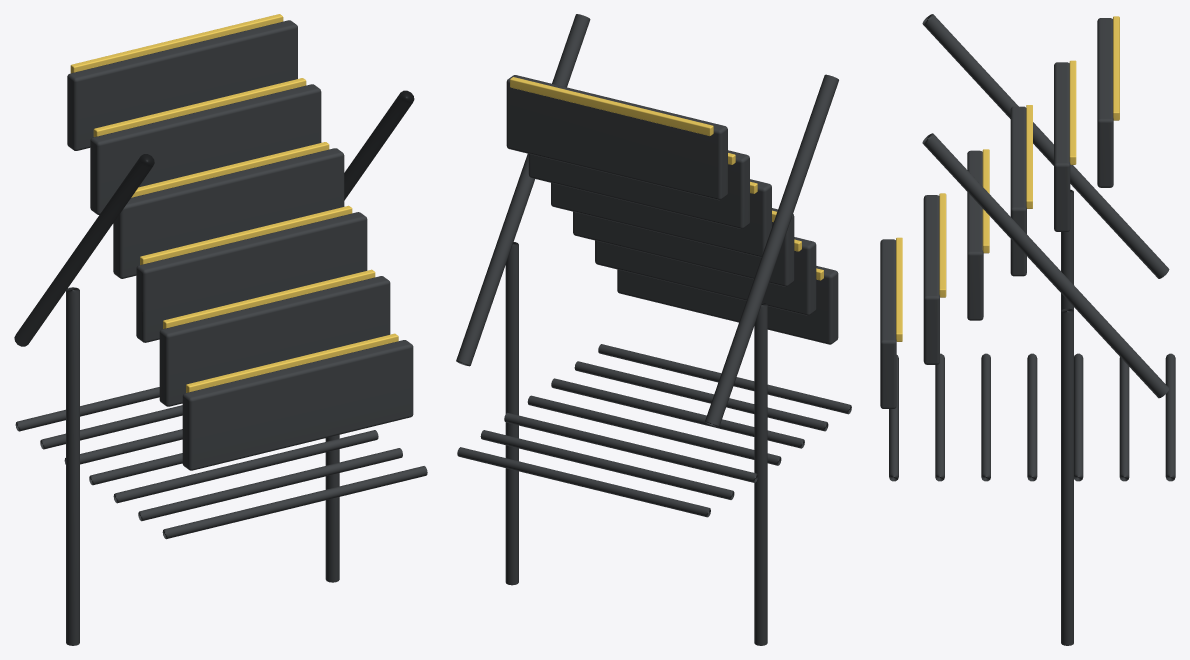
File: prop_ladder_stair_final.glb
3 renders of one model, left to right at view 1: azimuth 30°, elevation 25°; view 2: azimuth 150°, elevation 25°; view 3: azimuth 270°, elevation 25°, orthographic. The views are drawn at different scales.
Parts seen in each view (by area): view 1: industrial_stair_tread_0, industrial_stair_tread_1, industrial_stair_tread_2, industrial_stair_tread_5, industrial_stair_tread_3, industrial_stair_tread_4, ladder_vertical_rail_-0.52, stair_handrail_-0.52, ladder_rung_0, ladder_rung_1, ladder_rung_2, anti_slip_yellow_edge_4 (+11 smaller); view 2: industrial_stair_tread_5, industrial_stair_tread_4, industrial_stair_tread_3, industrial_stair_tread_1, stair_handrail_-0.52, industrial_stair_tread_0, industrial_stair_tread_2, ladder_vertical_rail_-0.52, stair_handrail_0.52, ladder_vertical_rail_0.52, ladder_rung_4, ladder_rung_5 (+6 smaller); view 3: stair_handrail_0.52, stair_handrail_-0.52, ladder_vertical_rail_0.52, industrial_stair_tread_1, industrial_stair_tread_0, industrial_stair_tread_5, industrial_stair_tread_4, industrial_stair_tread_3, industrial_stair_tread_2, ladder_rung_3, ladder_rung_6, ladder_rung_5 (+11 smaller).
Part boxes in pixels (x1,y1,x2,y2): industrial_stair_tread_0: (182,340,413,470); industrial_stair_tread_1: (159,276,390,406); industrial_stair_tread_2: (136,212,367,342); industrial_stair_tread_5: (67,20,297,150); industrial_stair_tread_3: (113,148,344,278); industrial_stair_tread_4: (90,84,321,214); ladder_vertical_rail_-0.52: (66,287,79,645); stair_handrail_-0.52: (14,154,154,346); ladder_rung_0: (162,466,427,539); ladder_rung_1: (138,448,402,521); ladder_rung_2: (113,430,378,503); anti_slip_yellow_edge_4: (93,78,306,137); industrial_stair_tread_5: (506,75,727,200); industrial_stair_tread_4: (528,150,749,228); industrial_stair_tread_3: (551,179,771,257); industrial_stair_tread_1: (595,237,816,315); stair_handrail_-0.52: (705,74,838,426); industrial_stair_tread_0: (617,266,838,344); industrial_stair_tread_2: (573,208,794,286); ladder_vertical_rail_-0.52: (754,302,767,645); stair_handrail_0.52: (456,14,590,366); ladder_vertical_rail_0.52: (505,242,518,585); ladder_rung_4: (504,412,757,482); ladder_rung_5: (480,430,734,499); stair_handrail_0.52: (922,133,1169,398); stair_handrail_-0.52: (922,14,1169,278); ladder_vertical_rail_0.52: (1061,308,1073,645); industrial_stair_tread_1: (923,195,939,364); industrial_stair_tread_0: (880,239,896,408); industrial_stair_tread_5: (1097,18,1113,187); industrial_stair_tread_4: (1054,62,1070,231); industrial_stair_tread_3: (1010,106,1026,276); industrial_stair_tread_2: (967,150,983,320); ladder_rung_3: (1027,353,1037,481); ladder_rung_6: (1165,353,1175,481); ladder_rung_5: (1119,357,1129,481).
Bounding box in the file's own units: 1.1 × 2.11 × 1.09.
